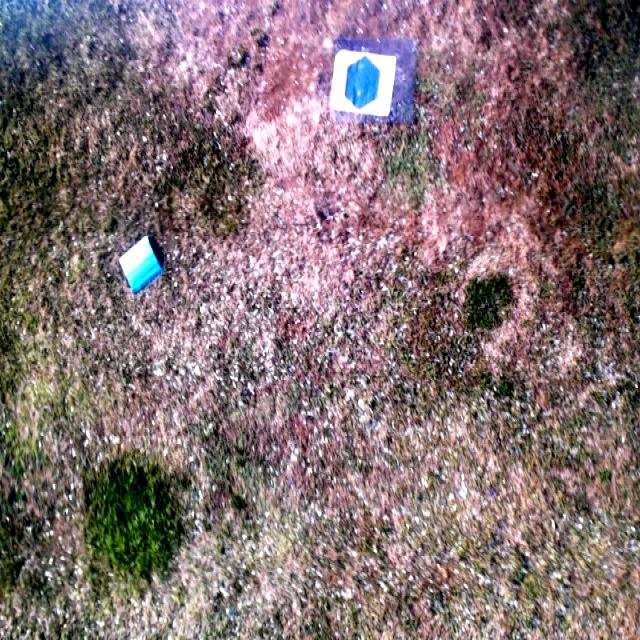blue_hexagon: (344, 55, 382, 108)
blue_square: (120, 231, 162, 293)
